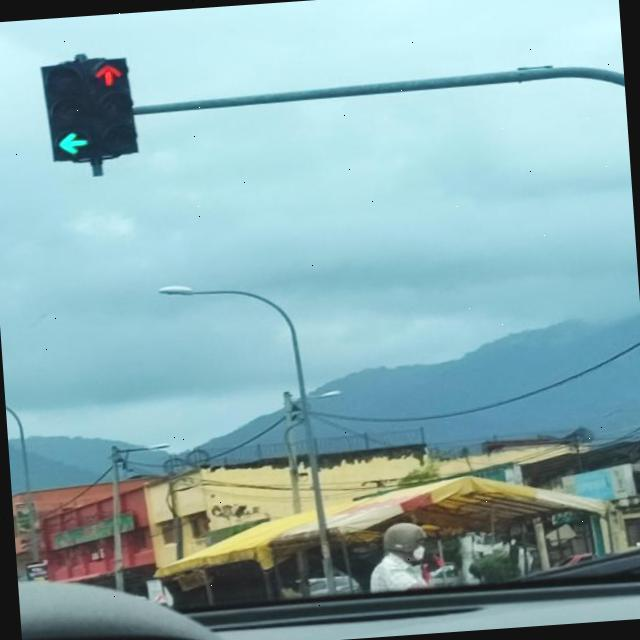green_light: (43, 58, 95, 162)
red_light: (88, 58, 138, 158)
